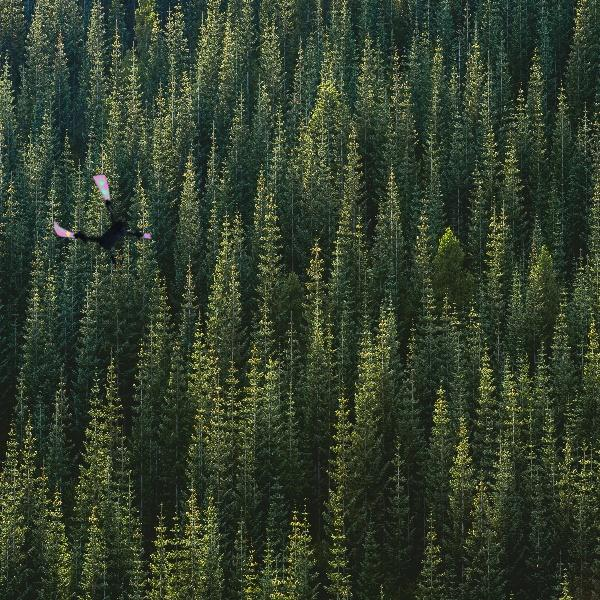drone: (51, 176, 151, 276)
